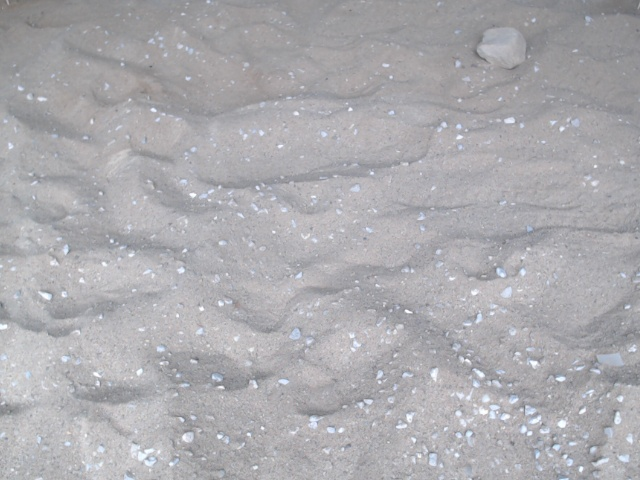rock: (470, 21, 531, 73)
